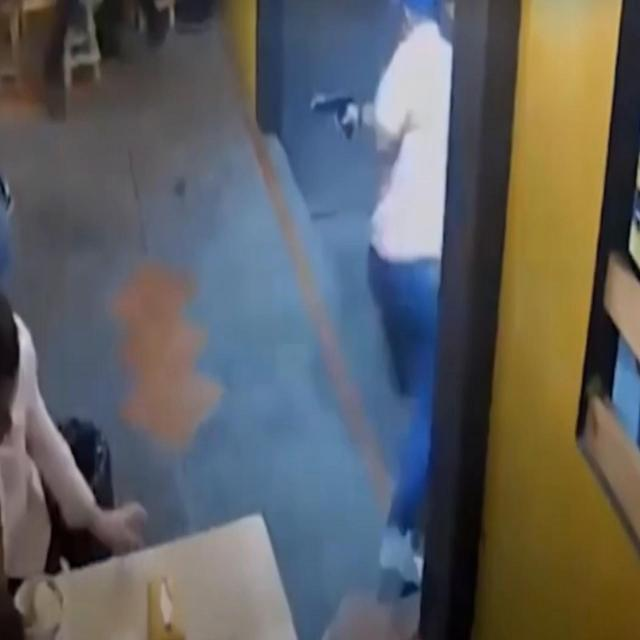pistol: (312, 92, 362, 144)
